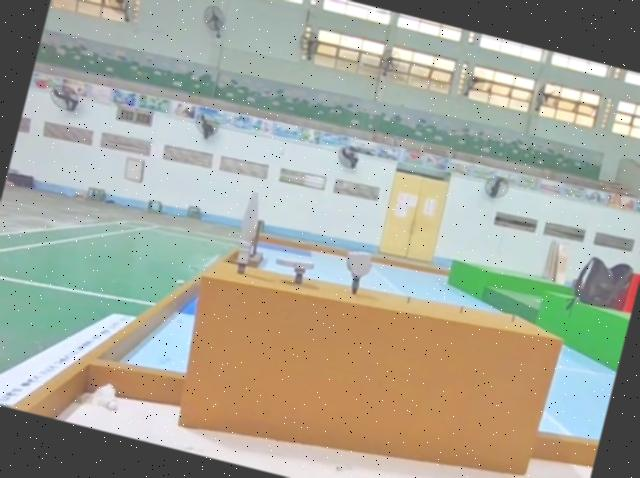Fist: (337, 246, 377, 299)
Hand: (269, 248, 315, 288)
Sph: (226, 186, 265, 274)
